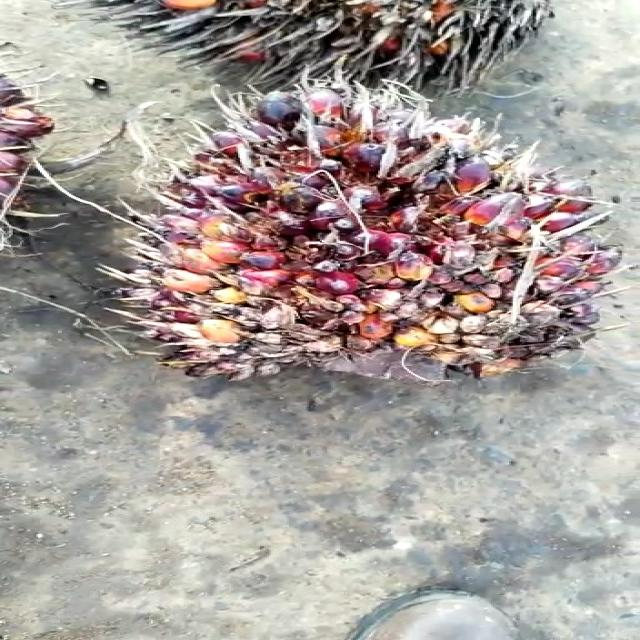palm oil: (94, 58, 616, 386)
